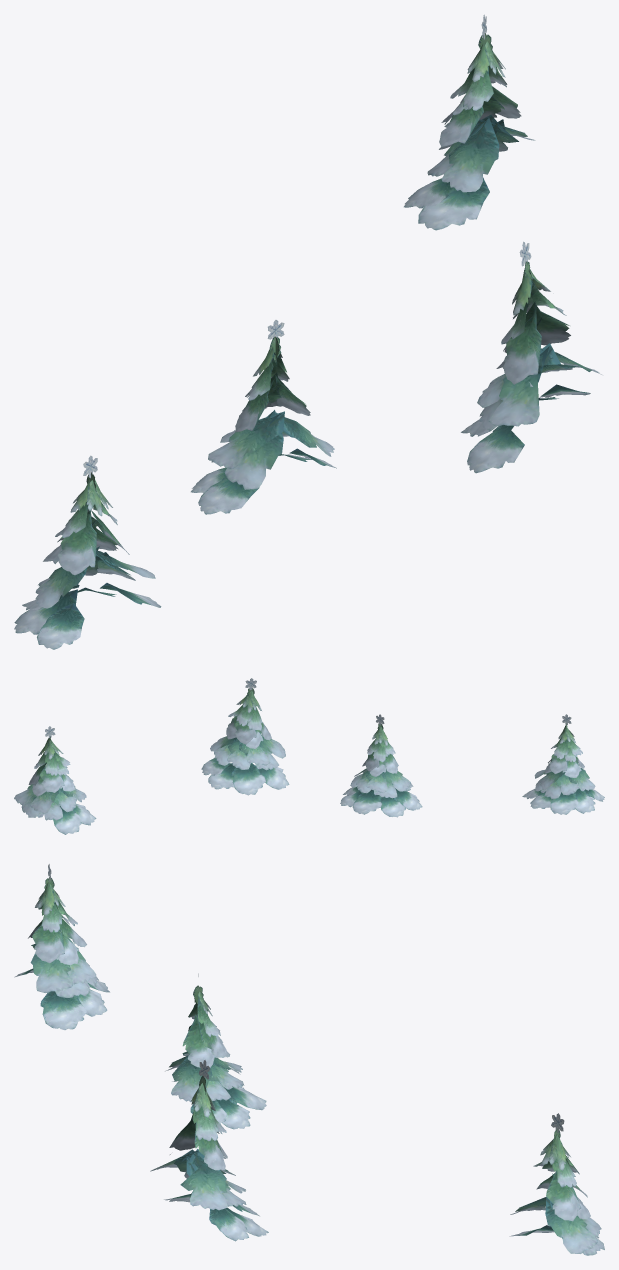
The model's file is pref_sm_beach_bk_winter_pointmol_longplant_L04_lv0.fbx.
3 views of the same model, one above another, from view 1: azimuth 30°, elevation 25°; view 2: azimuth 150°, elevation 25°; view 3: azimuth 270°, elevation 25° (orthographic). The views are drawn at different scales.
Parts seen in each view (by area): view 1: pref_sm_beach_bk_winter_pointmol_longplant_L04_lv0; view 2: pref_sm_beach_bk_winter_pointmol_longplant_L04_lv0; view 3: pref_sm_beach_bk_winter_pointmol_longplant_L04_lv0.
Boxes of the visible parts, <box> form: pref_sm_beach_bk_winter_pointmol_longplant_L04_lv0: <box>14,14,601,649</box>; pref_sm_beach_bk_winter_pointmol_longplant_L04_lv0: <box>14,678,604,834</box>; pref_sm_beach_bk_winter_pointmol_longplant_L04_lv0: <box>14,864,604,1255</box>.
Bounding box in the file's own units: 36.3 × 9.57 × 27.74.
